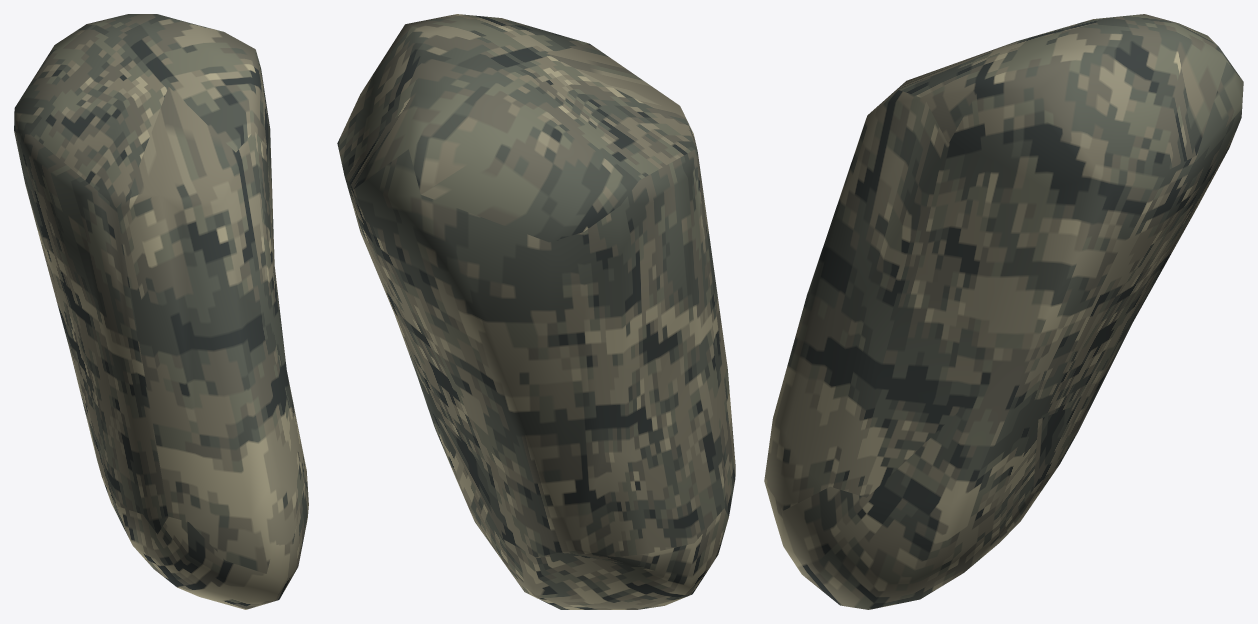
The model's file is rockMedium02.fbx.
3 views of the same model, side by side, from view 1: azimuth 30°, elevation 25°; view 2: azimuth 150°, elevation 25°; view 3: azimuth 270°, elevation 25° (orthographic). The views are drawn at different scales.
Visible parts, largest first — view 1: RockMedium2; view 2: RockMedium2; view 3: RockMedium2.
Boxes of the visible parts, x1=… form: RockMedium2: x1=14, y1=14, x2=308, y2=609; RockMedium2: x1=337, y1=14, x2=735, y2=609; RockMedium2: x1=764, y1=14, x2=1243, y2=609.
Bounding box in the file's own units: 18.66 × 38.88 × 29.21.
